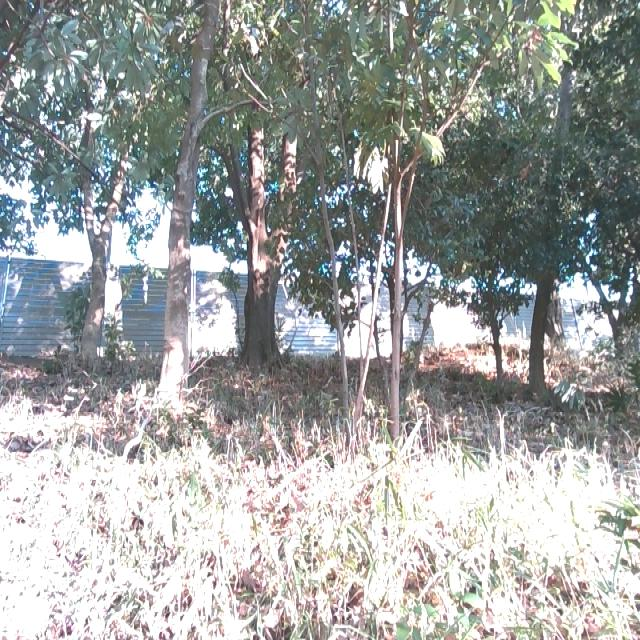artifact: (0, 250, 608, 356)
tree: (326, 0, 459, 435), (144, 0, 250, 420), (59, 26, 148, 402), (522, 0, 597, 403), (237, 5, 303, 378), (473, 202, 519, 418)
